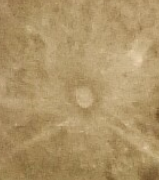crater: (38, 23, 124, 154)
